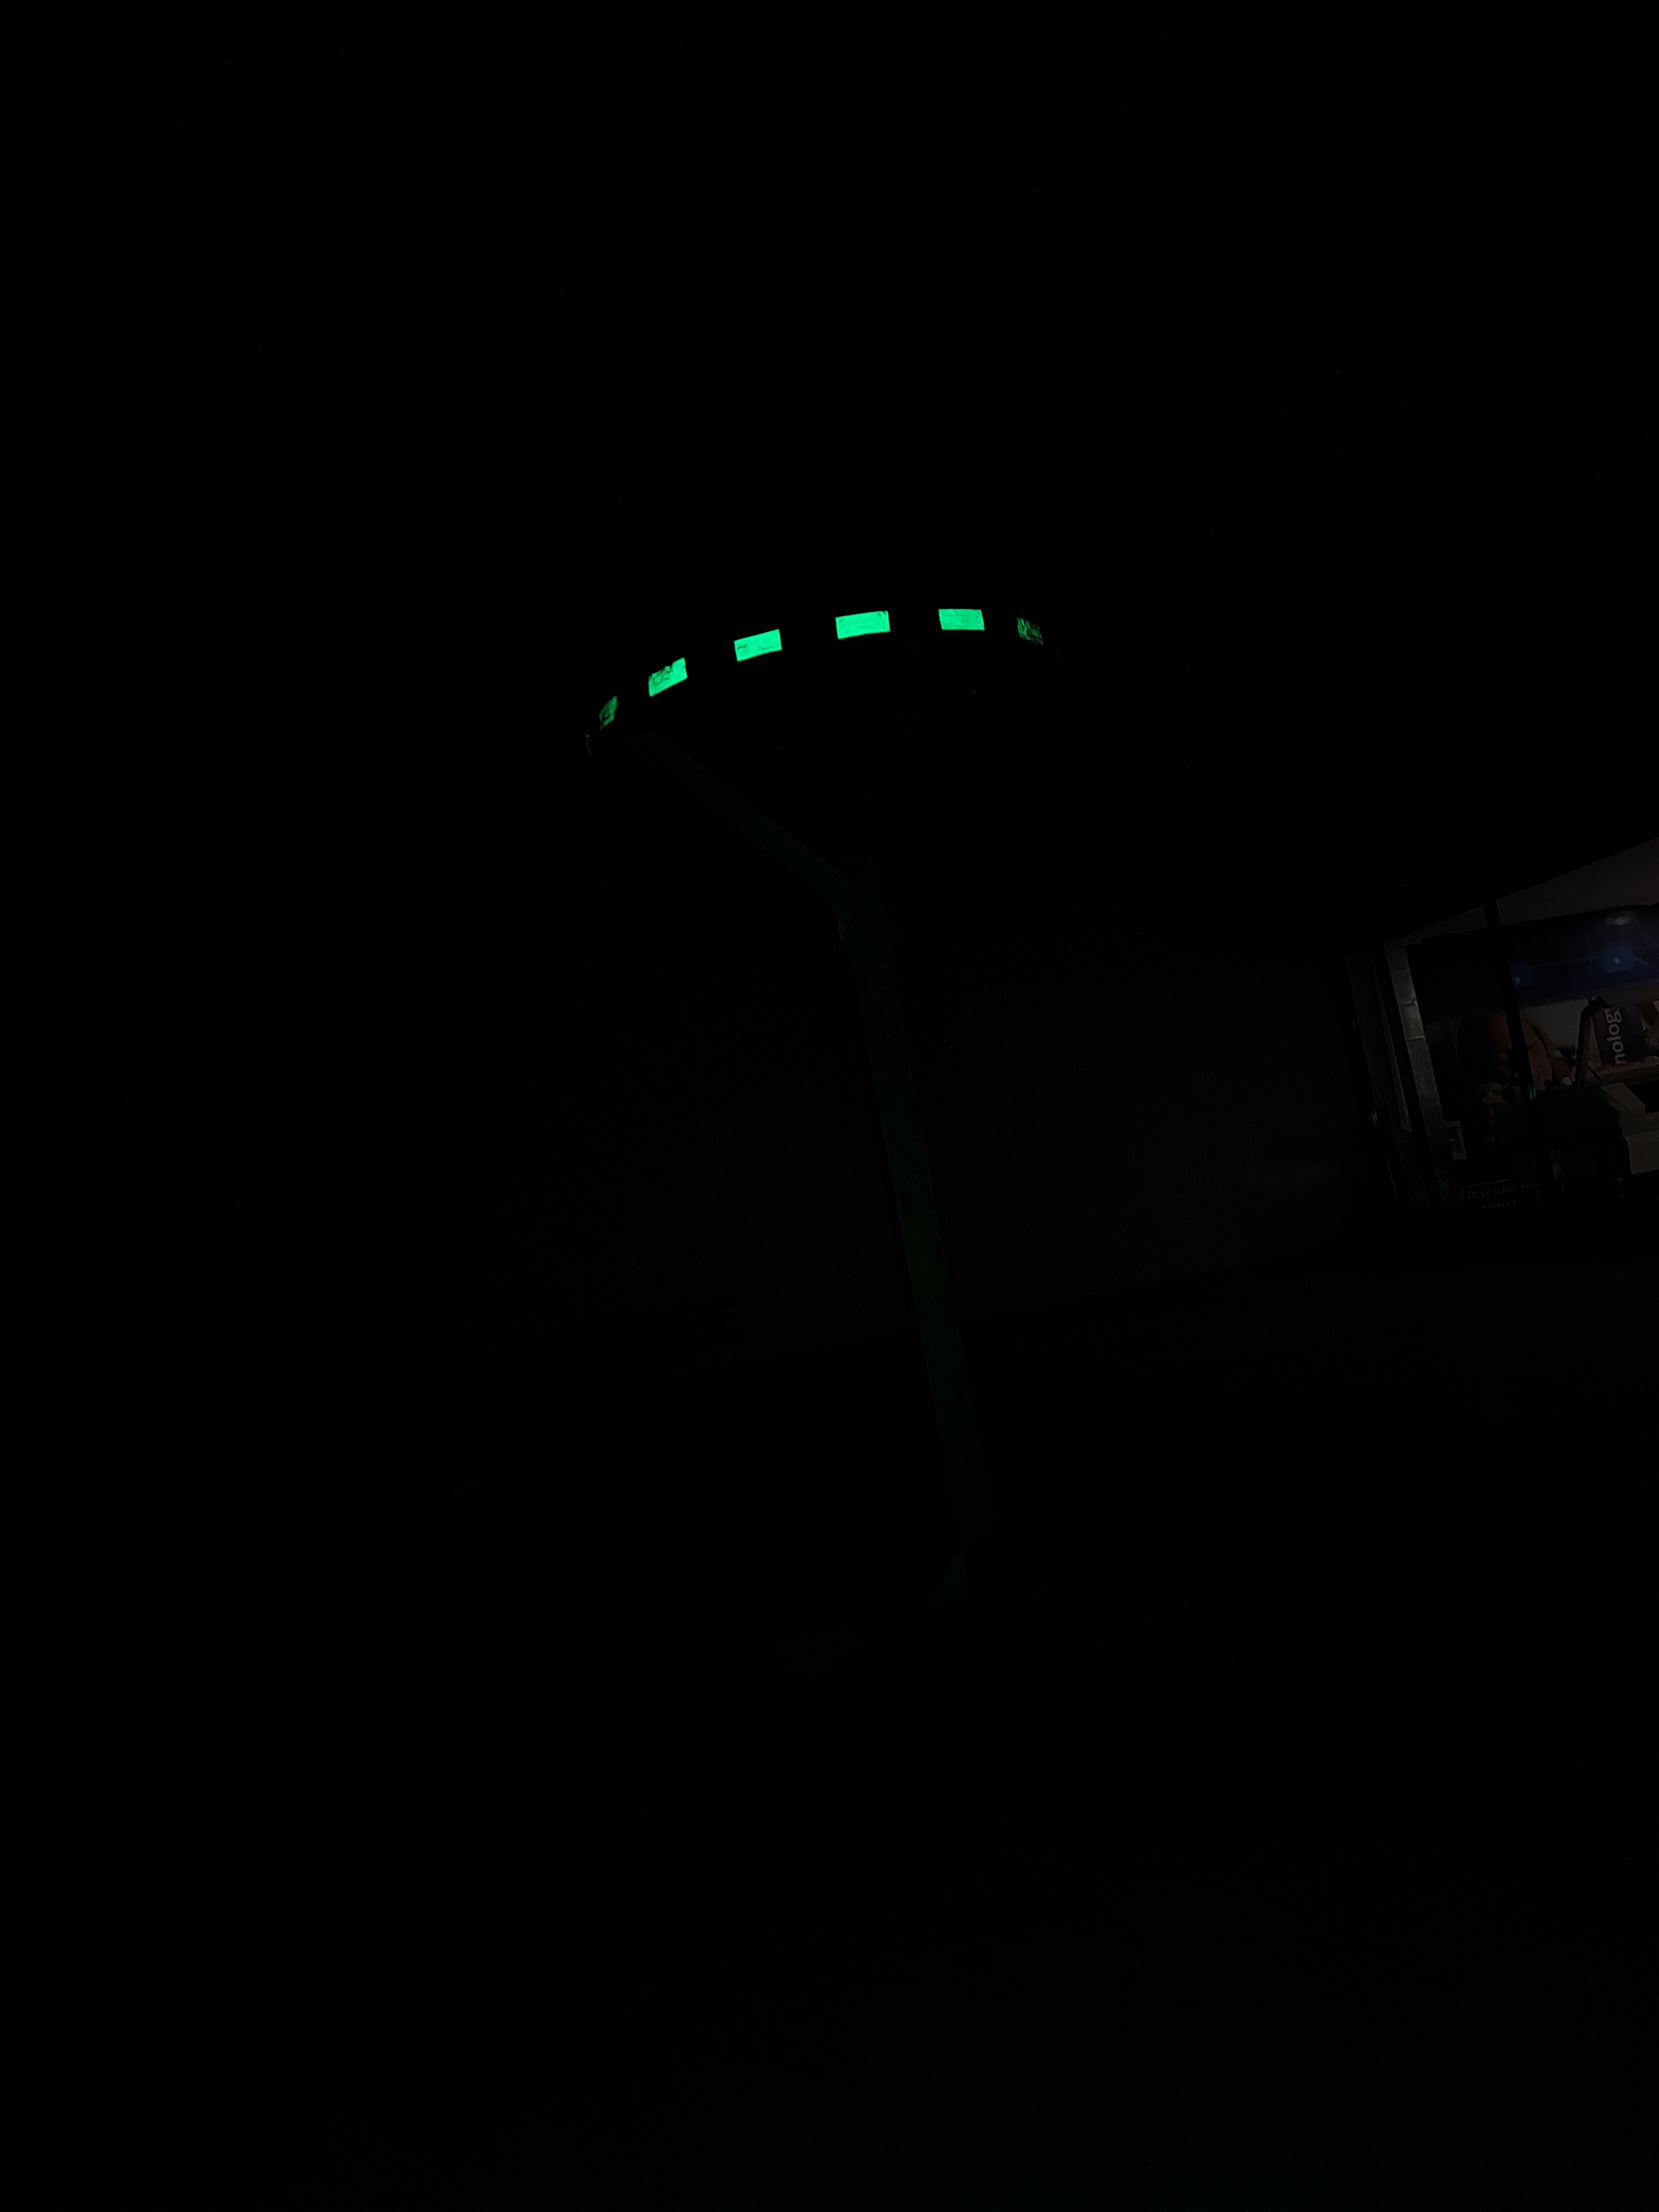hoop: (575, 583, 1080, 756)
